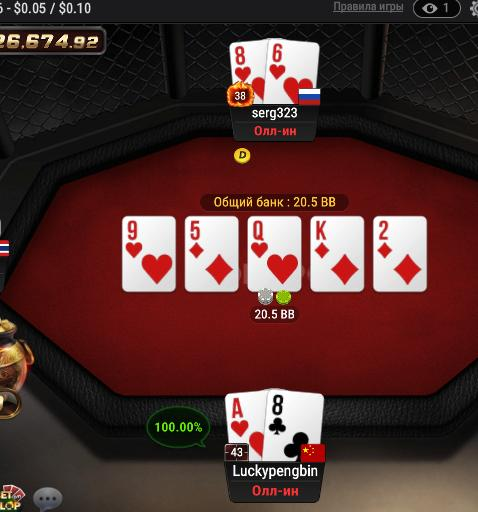2d: (373, 217, 427, 291)
5d: (185, 217, 239, 291)
6h: (267, 37, 319, 104)
8c: (266, 389, 325, 459)
8h: (229, 39, 266, 102)
9h: (122, 216, 175, 292)
Ah: (224, 390, 266, 461)
Kd: (311, 217, 364, 292)
Qh: (248, 216, 300, 289)
